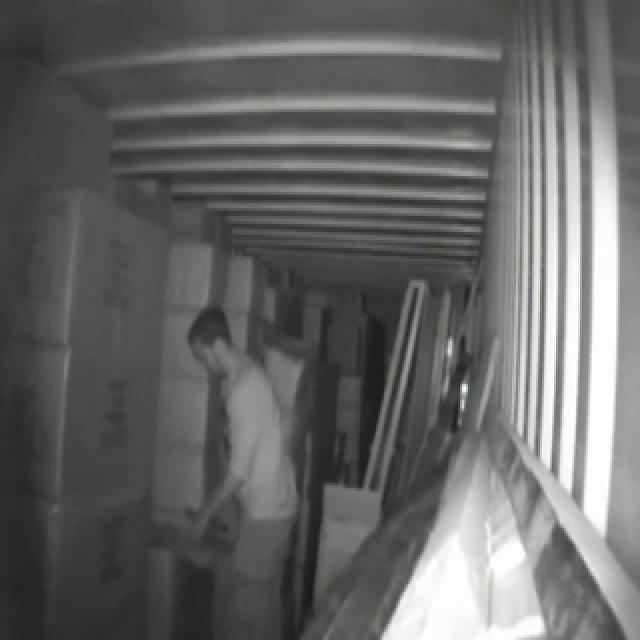burglary: (89, 2, 391, 626)
